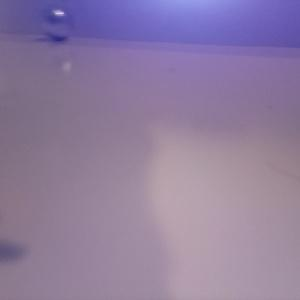alive_ball: (40, 5, 73, 40)
